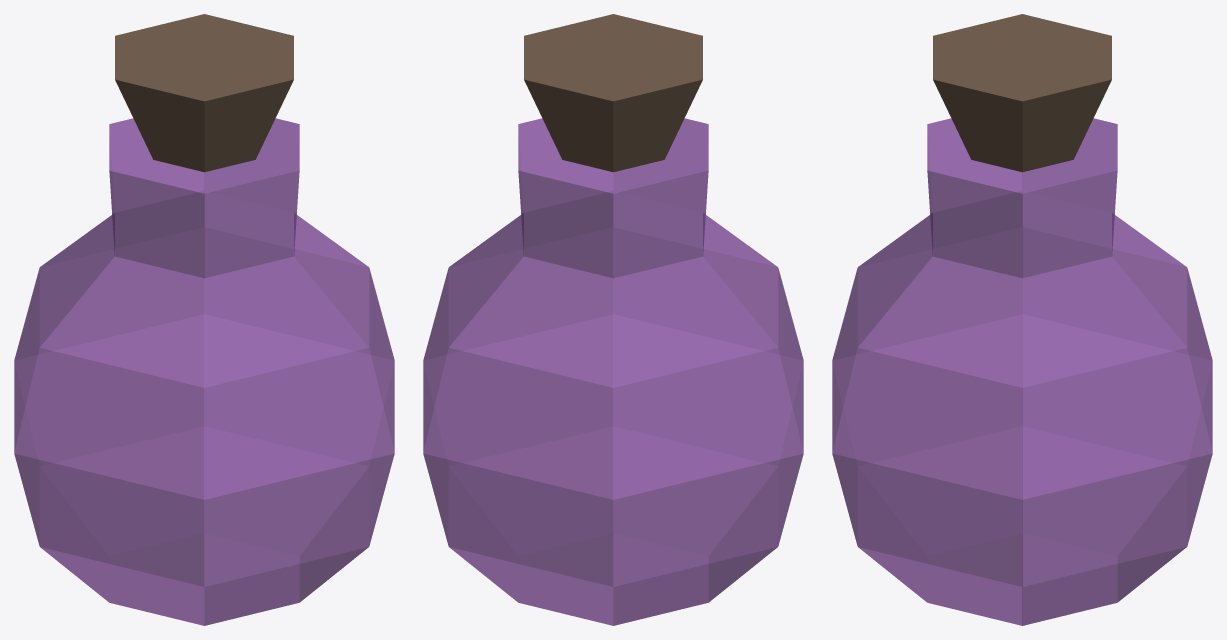
File: SM_PotionViolette.fbx
3 renders of one model, left to right at view 1: azimuth 30°, elevation 25°; view 2: azimuth 150°, elevation 25°; view 3: azimuth 270°, elevation 25°, orthographic.
Visible parts, largest first — view 1: Potion; view 2: Potion; view 3: Potion.
Boxes of the visible parts, x1,y1,x2,y2 form: Potion: (14, 14, 394, 625); Potion: (423, 14, 803, 625); Potion: (832, 14, 1212, 625).
Bounding box in the file's own units: 0.9815 × 1.29 × 0.85.
